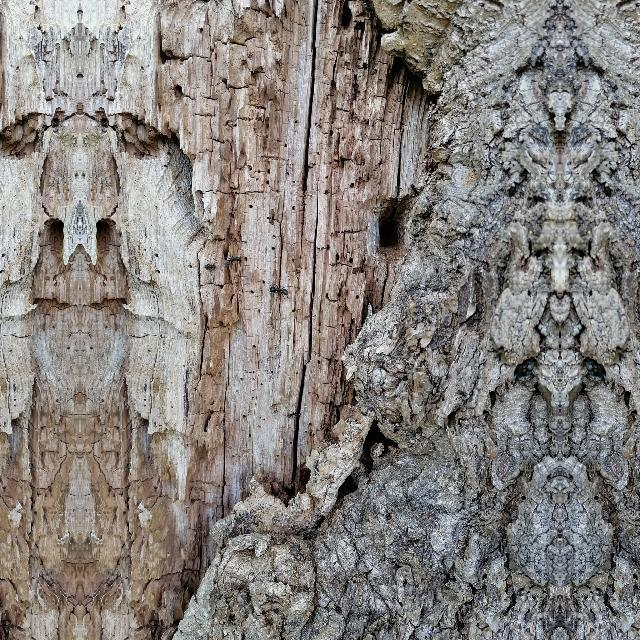Camponotus: (266, 278, 294, 302), (222, 250, 244, 268), (406, 182, 422, 198), (202, 260, 220, 272)
